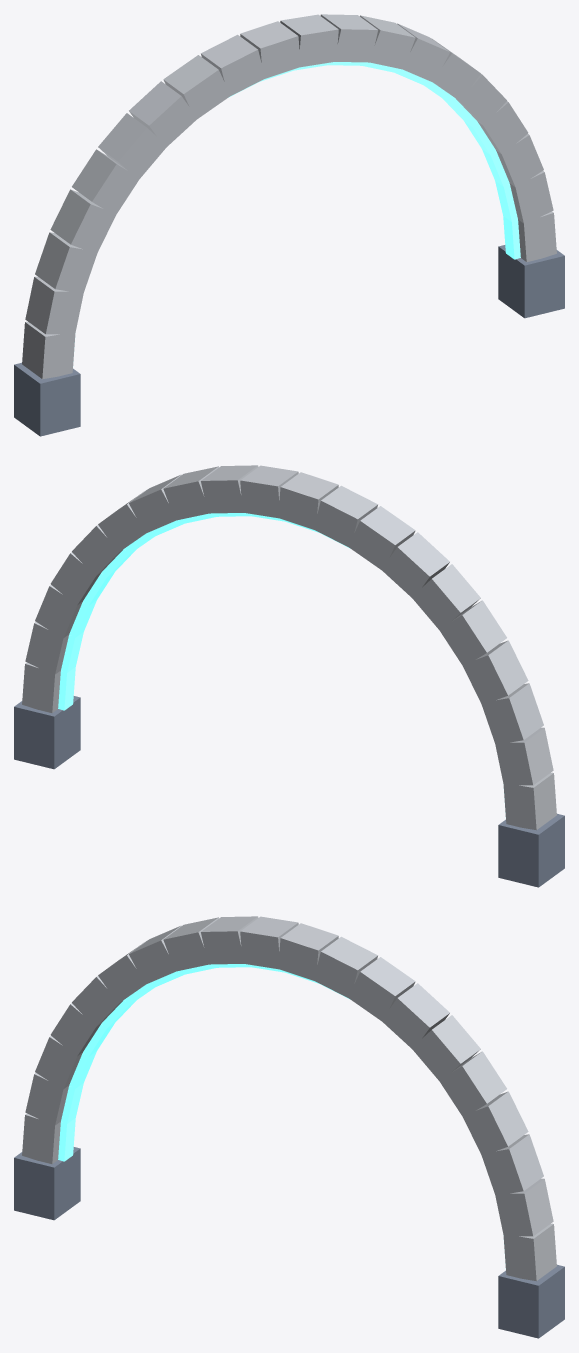
The model's file is sky_portal.glb.
3 renders of one model, top to bottom at view 1: azimuth 30°, elevation 25°; view 2: azimuth 150°, elevation 25°; view 3: azimuth 330°, elevation 25°, orthographic.
Parts seen in each view (by area): view 1: LOD0; view 2: LOD0; view 3: LOD0.
Boxes of the visible parts, x1,y1,x2,y2 form: LOD0: (14,14,564,436); LOD0: (14,465,564,887); LOD0: (14,916,564,1338).
Size of what is drawn, in the model's own units: 20.8 by 12.68 by 1.8.
